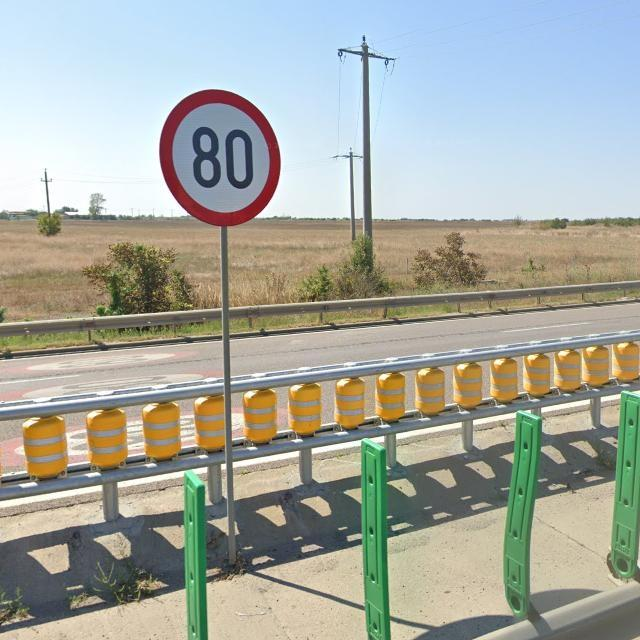forb_speed_over_80: (155, 86, 280, 229)
